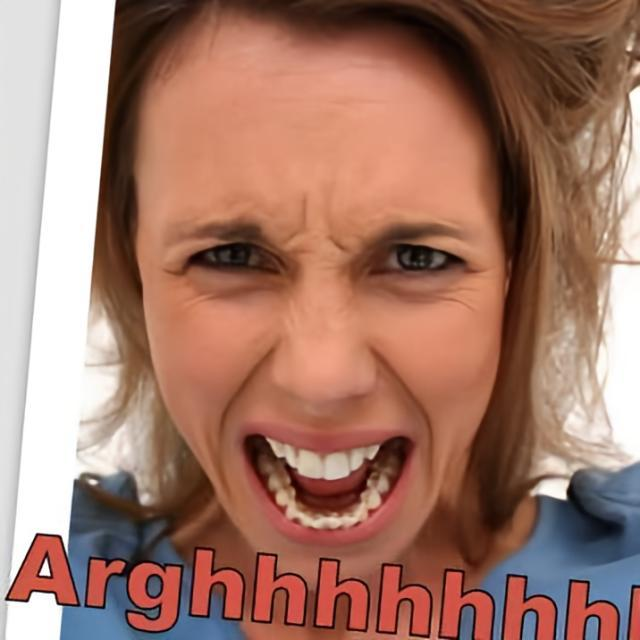anger: (139, 38, 507, 583)
